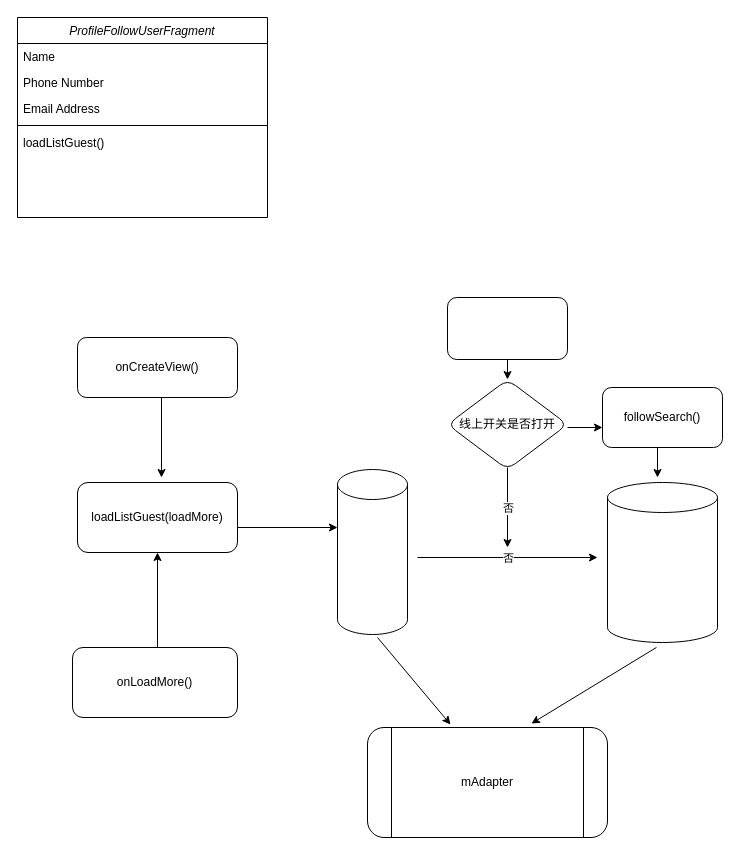
Image size: 740x855. Some labels were removed from this diagram. Here are the shapes that lost their labels. From the top down, the centre of each, then its label:
At pixel 507 328: "doSearch()".
At pixel 372 551: "mUserList".
At pixel 662 562: "mTempResultList".
